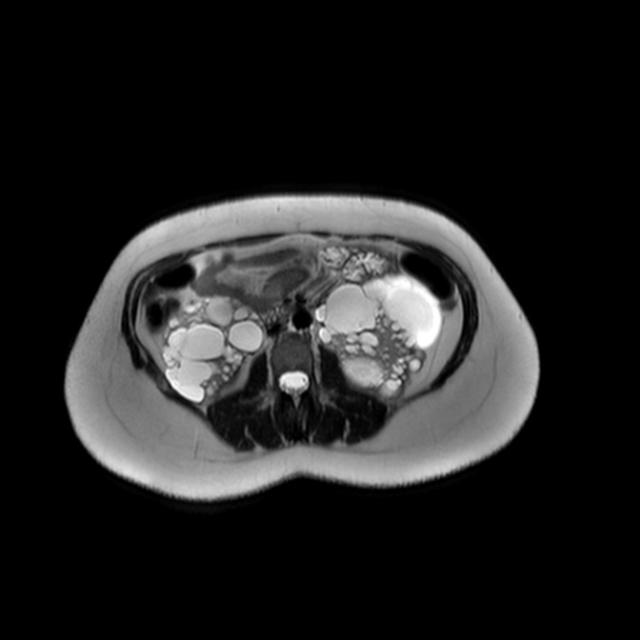sag: (158, 294, 268, 407)
sol: (314, 271, 444, 401)
